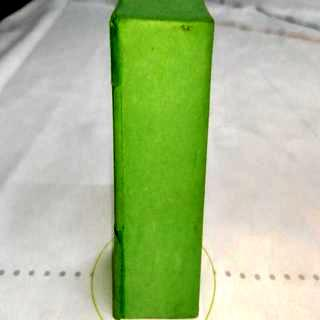greenbox: (110, 0, 216, 320)
